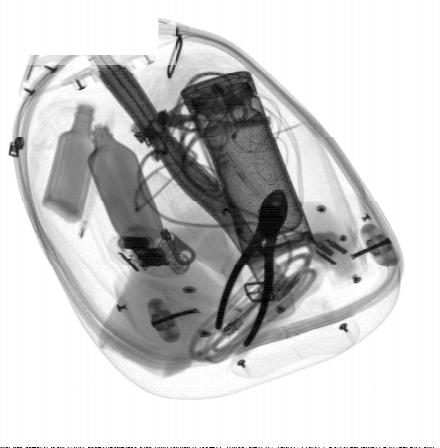Pliers: (213, 186, 289, 347)
